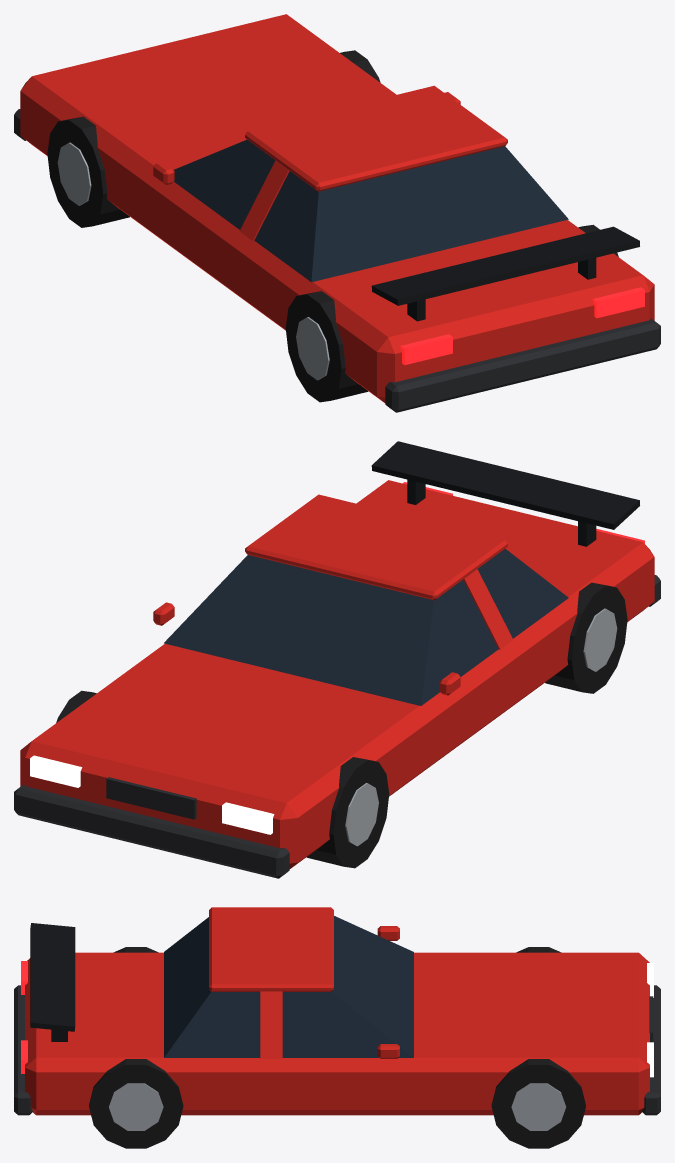
File: carro_esportivo.glb
3 renders of one model, top to bottom at view 1: azimuth 30°, elevation 25°; view 2: azimuth 150°, elevation 25°; view 3: azimuth 270°, elevation 25°, orthographic. The views are drawn at different scales.
Parts seen in each view (by area): view 1: esportivo_carroceria, aerofolio, roda_diant_esq, roda_tras_esq; view 2: esportivo_carroceria, aerofolio, roda_tras_esq, roda_diant_esq; view 3: esportivo_carroceria, roda_diant_dir, roda_tras_dir, aerofolio.
Boxes of the visible parts, <box> form: esportivo_carroceria: <box>14,14,660,412</box>; aerofolio: <box>371,226,639,321</box>; roda_diant_esq: <box>47,116,129,227</box>; roda_tras_esq: <box>285,291,368,402</box>; esportivo_carroceria: <box>14,480,660,878</box>; aerofolio: <box>371,441,639,546</box>; roda_tras_esq: <box>545,582,627,693</box>; roda_diant_esq: <box>306,757,389,868</box>; esportivo_carroceria: <box>14,907,660,1115</box>; roda_diant_dir: <box>491,1059,585,1148</box>; roda_tras_dir: <box>89,1059,183,1148</box>; aerofolio: <box>30,923,75,1041</box>.
Size of the model in its own units: 2.09 by 1.14 by 4.66.
